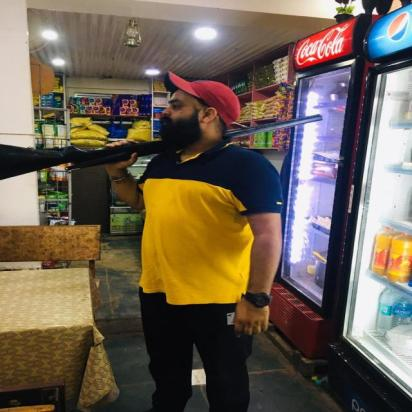Gun: (0, 114, 324, 180)
